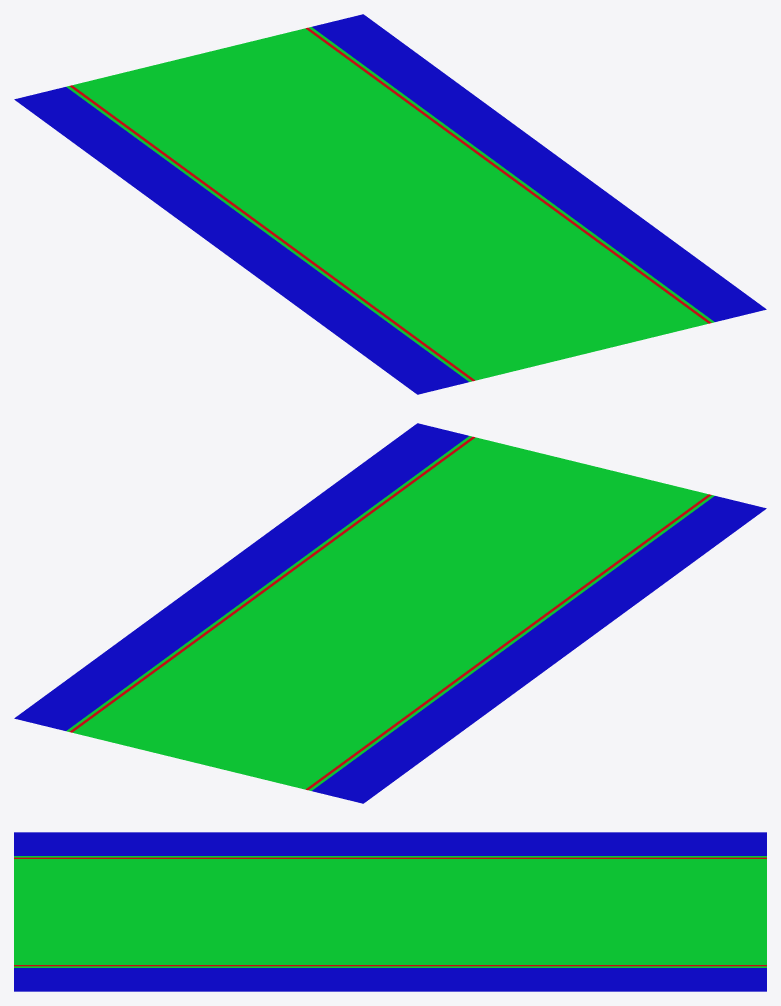
File: wide_straight.fbx
The picture shows the model from 3 angles, top to bottom: view 1: azimuth 30°, elevation 25°; view 2: azimuth 150°, elevation 25°; view 3: azimuth 270°, elevation 25°; orthographic projection. The views are drawn at different scales.
Visible parts, largest first — view 1: Plane.074; view 2: Plane.074; view 3: Plane.074.
Part boxes in pixels (x1,y1,x2,y2): Plane.074: [14, 14, 766, 394]; Plane.074: [14, 423, 766, 803]; Plane.074: [14, 832, 766, 991].
Size of the model in its own units: 600 by 0.000196 by 1200.
